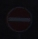No entry: (5, 5, 33, 34)
